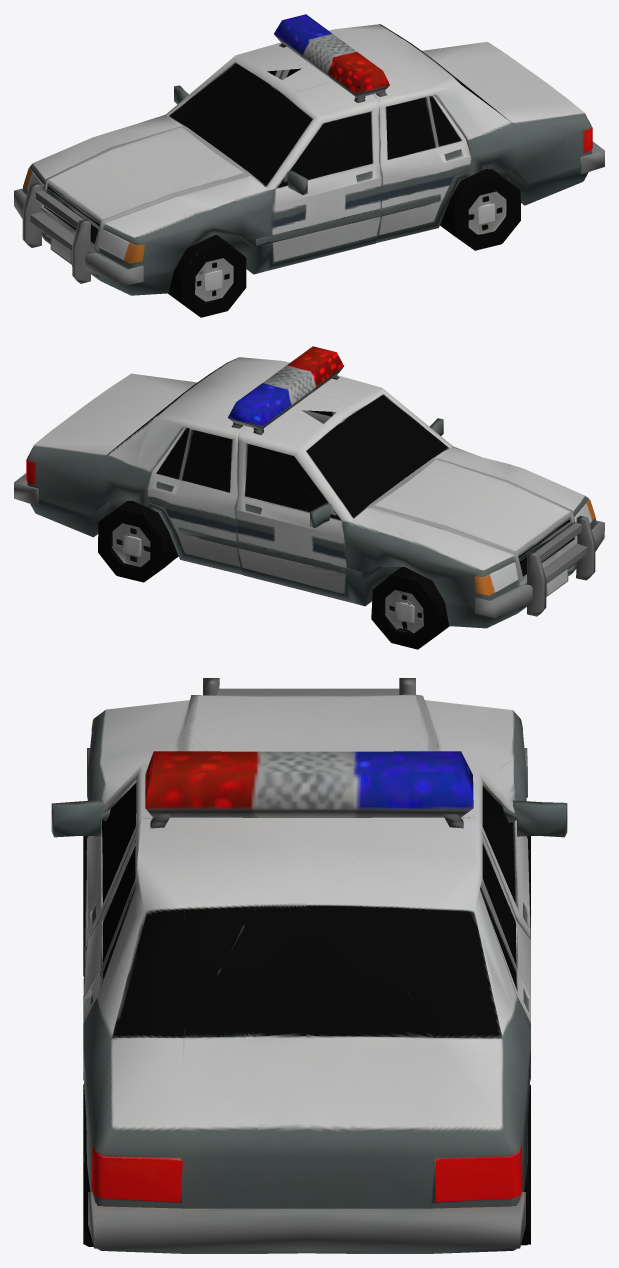
The model's file is policia.glb.
3 views of the same model, one above another, from view 1: azimuth 30°, elevation 25°; view 2: azimuth 150°, elevation 25°; view 3: azimuth 270°, elevation 25° (orthographic). The views are drawn at different scales.
Parts seen in each view (by area): view 1: geometry_0; view 2: geometry_0; view 3: geometry_0.
Part boxes in pixels (box(x1,y1,x2,y2)): geometry_0: box(14, 14, 604, 317); geometry_0: box(14, 346, 604, 649); geometry_0: box(51, 678, 567, 1253).
Size of the model in its own units: 0.9536 by 0.3369 by 0.4224.
Materials: 1 (1 with a texture image).
